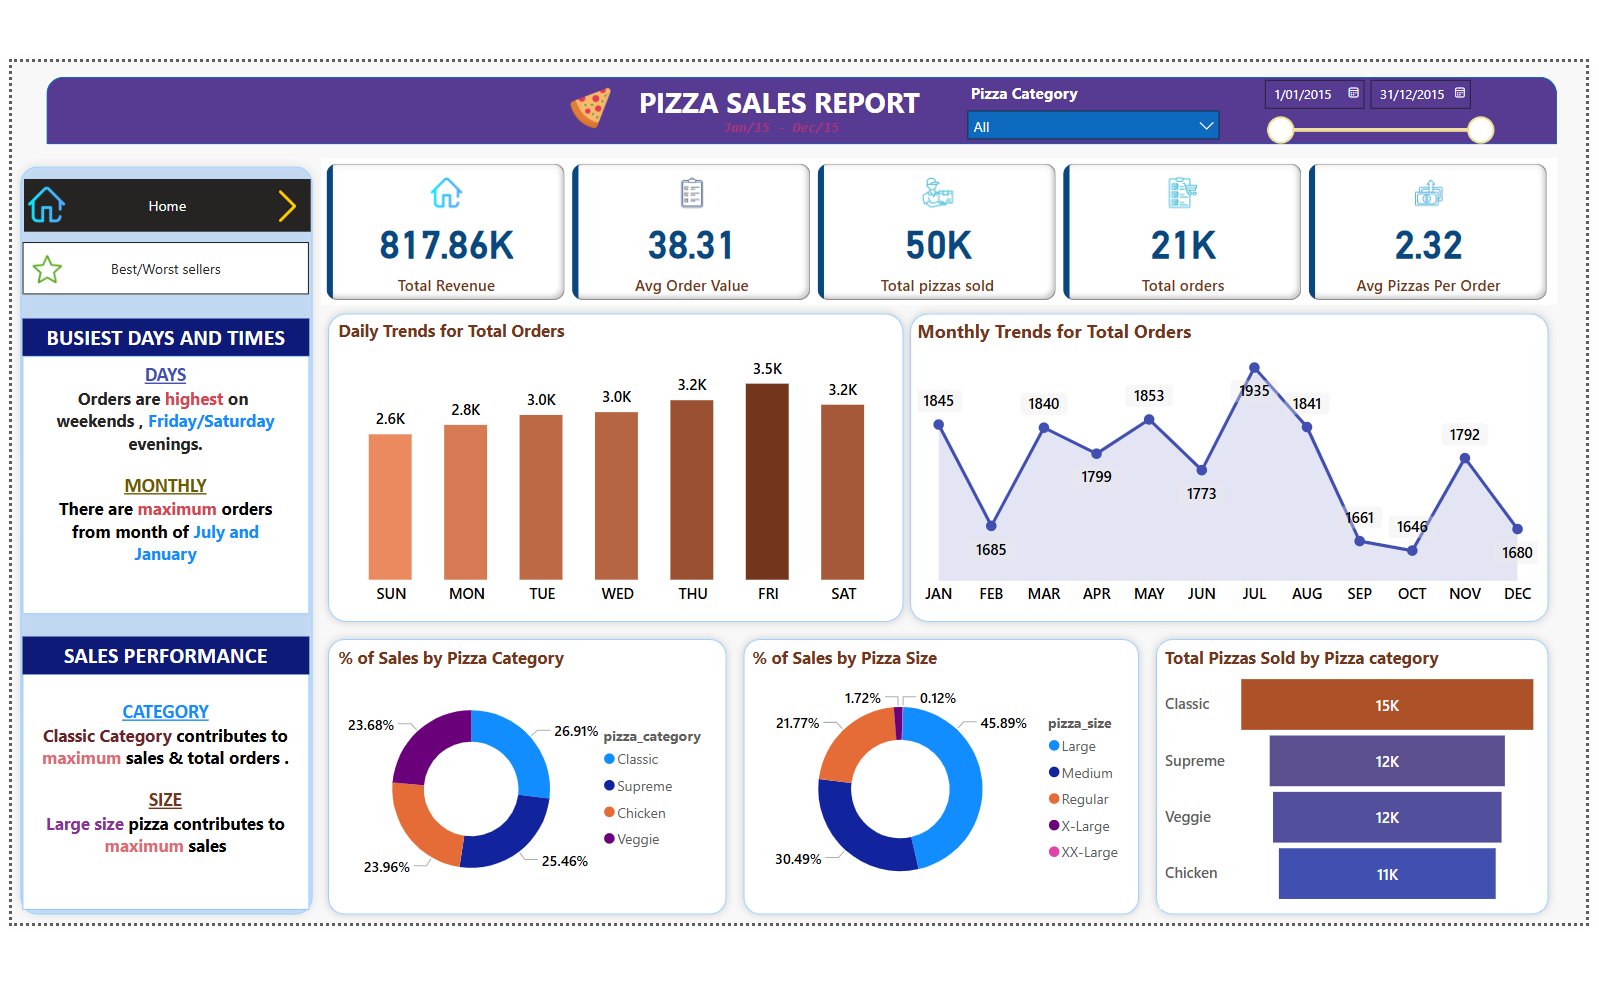

The page's visual inventory and layout, read from the dashboard file:
{"tool":"powerbi","page":{"name":"Home","canvas":[1500,820],"ordinal":0},"visuals":[{"type":"cardVisual","fields":{"Data":["pizza_sales (1).Total Revenue","pizza_sales (1).Avg Order Value","pizza_sales (1).Total pizzas sold","pizza_sales (1).Total orders","pizza_sales (1).Avg Pizzas Per Order"]},"box":[294.5,91.5,1177.9,140.1],"z":0},{"type":"shape","box":[32.9,14.3,1439.5,64.3],"z":1000},{"type":"textbox","box":[586.1,14.3,290.2,47.2],"z":2000},{"type":"textbox","box":[667.6,47.2,130.1,34.3],"z":3000},{"type":"image","box":[526,8.6,50,70],"z":4000},{"type":"shape","box":[293,231.6,564.6,310.2],"z":5000},{"type":"shape","box":[847.7,231.6,624.7,310.2],"z":6000},{"type":"columnChart","title":"Daily Trends for Total Orders","fields":{"Category":["pizza_sales (1).Order Day"],"Y":["pizza_sales (1).Total orders"]},"box":[305.9,244.4,541.8,281.6],"z":7000},{"type":"areaChart","title":"Monthly Trends for Total Orders","fields":{"Category":["pizza_sales (1).Order Month"],"Y":["pizza_sales (1).Total orders"]},"box":[857.7,244.4,601.8,281.6],"z":8000},{"type":"shape","box":[293,541.8,396,278.7],"z":9000},{"type":"shape","box":[689,541.8,393.1,278.7],"z":10000},{"type":"shape","box":[1082.1,541.8,390.2,278.7],"z":11000},{"type":"donutChart","title":"% of Sales by Pizza Category","fields":{"Category":["pizza_sales (1).pizza_category"],"Y":["pizza_sales (1).Total Revenue"]},"box":[305.9,556.1,371.7,251.6],"z":12000},{"type":"donutChart","title":"% of Sales by Pizza Size","fields":{"Y":["pizza_sales (1).Total Revenue"],"Category":["pizza_sales (1).pizza_size"]},"box":[700.4,556.1,371.7,251.6],"z":13000},{"type":"funnel","title":"Total Pizzas Sold by Pizza category","fields":{"Category":["pizza_sales (1).pizza_category"],"Y":["pizza_sales (1).Total pizzas sold"]},"box":[1093.6,556.1,365.9,251.6],"z":14000},{"type":"shape","box":[0,91.5,294.5,729],"z":15000},{"type":"textbox","box":[10,244.4,273,35.7],"z":16000},{"type":"textbox","box":[10,583.2,273,224.4],"z":17000},{"type":"textbox","box":[10,280.2,273,245.9],"z":18000},{"type":"textbox","box":[10,547.5,273,35.7],"z":19000},{"type":"slicer","fields":{"Values":["pizza_sales (1).pizza_category"]},"box":[900.6,14.3,260.2,64.3],"z":20000},{"type":"slicer","fields":{"Values":["pizza_sales (1).order_date"]},"box":[1180.7,7.1,240.2,74.3],"z":21000},{"type":"pageNavigator","box":[11.4,111.5,273,50],"z":22000},{"type":"pageNavigator","box":[10,171.5,273,50],"z":23000},{"type":"image","box":[241.6,114.4,41.5,45.7],"z":24000},{"type":"image","box":[14.3,170.1,38.6,54.3],"z":25000},{"type":"image","box":[10,111.5,45.7,48.6],"z":26000}]}

Visuals, with their boxes on the page's 1500x820 design canvas (x1, y1, x2, y2). These are canvas units, not pixel positions in the 1599x988 screenshot, which may show the page scaled, cropped or inside an application window:
cardVisual - pizza_sales (1).Total Revenue x pizza_sales (1).Avg Order Value: [x1=294, y1=92, x2=1472, y2=232]
shape: [x1=33, y1=14, x2=1472, y2=79]
textbox: [x1=586, y1=14, x2=876, y2=62]
textbox: [x1=668, y1=47, x2=798, y2=82]
image: [x1=526, y1=9, x2=576, y2=79]
shape: [x1=293, y1=232, x2=858, y2=542]
shape: [x1=848, y1=232, x2=1472, y2=542]
"Daily Trends for Total Orders" columnChart: [x1=306, y1=244, x2=848, y2=526]
"Monthly Trends for Total Orders" areaChart: [x1=858, y1=244, x2=1460, y2=526]
shape: [x1=293, y1=542, x2=689, y2=820]
shape: [x1=689, y1=542, x2=1082, y2=820]
shape: [x1=1082, y1=542, x2=1472, y2=820]
"% of Sales by Pizza Category" donutChart: [x1=306, y1=556, x2=678, y2=808]
"% of Sales by Pizza Size" donutChart: [x1=700, y1=556, x2=1072, y2=808]
"Total Pizzas Sold by Pizza category" funnel: [x1=1094, y1=556, x2=1460, y2=808]
shape: [x1=0, y1=92, x2=294, y2=820]
textbox: [x1=10, y1=244, x2=283, y2=280]
textbox: [x1=10, y1=583, x2=283, y2=808]
textbox: [x1=10, y1=280, x2=283, y2=526]
textbox: [x1=10, y1=548, x2=283, y2=583]
slicer - pizza_sales (1).pizza_category: [x1=901, y1=14, x2=1161, y2=79]
slicer - pizza_sales (1).order_date: [x1=1181, y1=7, x2=1421, y2=81]
pageNavigator: [x1=11, y1=112, x2=284, y2=162]
pageNavigator: [x1=10, y1=172, x2=283, y2=222]
image: [x1=242, y1=114, x2=283, y2=160]
image: [x1=14, y1=170, x2=53, y2=224]
image: [x1=10, y1=112, x2=56, y2=160]
